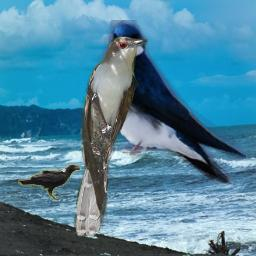Crow: (18, 164, 81, 199)
Cuckoo: (73, 34, 149, 237)
Swallow: (97, 20, 246, 184)
